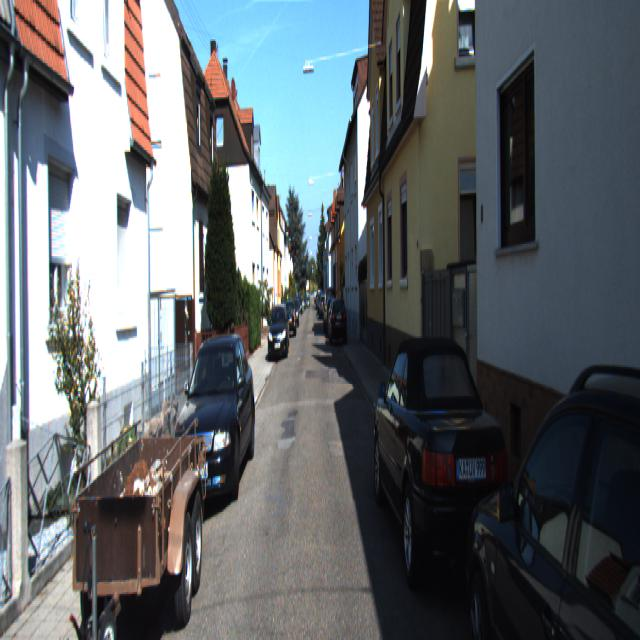Car: (462, 343, 640, 638), (371, 322, 512, 620), (77, 425, 209, 638), (172, 328, 256, 520), (267, 305, 287, 359), (329, 296, 348, 346)
